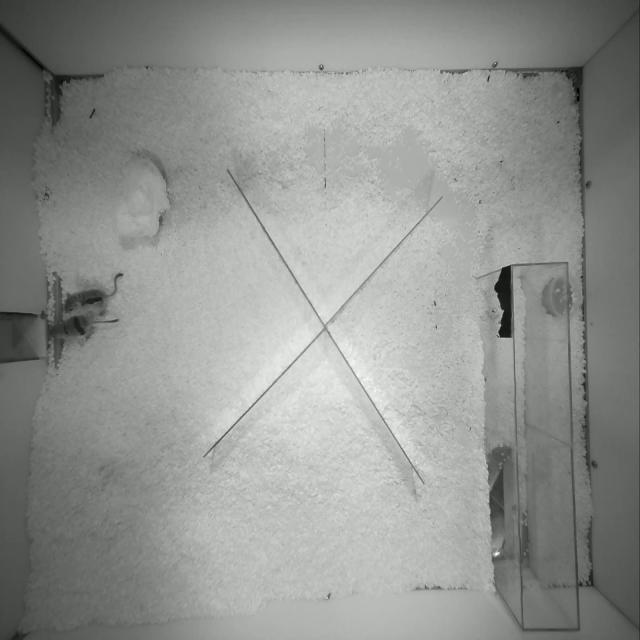pup_h_stripe: (49, 313, 118, 337)
pup_v_stripe: (64, 273, 123, 316)
